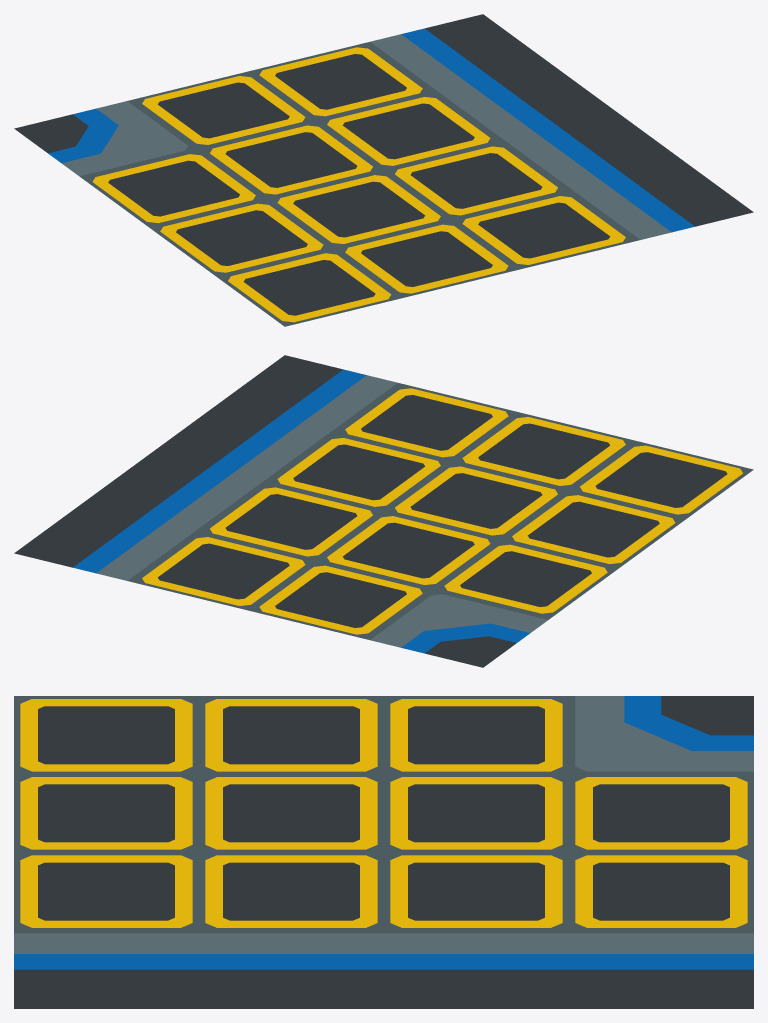
The model's file is Floor_type_C_012.fbx.
3 renders of one model, top to bottom at view 1: azimuth 30°, elevation 25°; view 2: azimuth 150°, elevation 25°; view 3: azimuth 270°, elevation 25°, orthographic. The views are drawn at different scales.
Visible parts, largest first — view 1: Floor_type_C_012; view 2: Floor_type_C_012; view 3: Floor_type_C_012.
Part boxes in pixels (x1,y1,x2,y2): Floor_type_C_012: (14,14,753,326); Floor_type_C_012: (14,355,753,667); Floor_type_C_012: (14,696,753,1008).
Bounding box in the file's own units: 400 × 400 × 1.75e-21.
